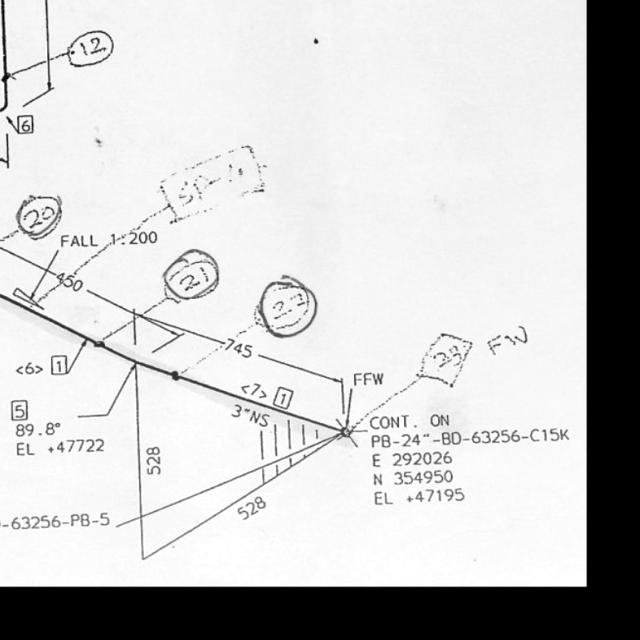Item number: (271, 383, 295, 411), (49, 352, 70, 377), (1, 125, 12, 172), (10, 397, 29, 422), (16, 111, 35, 135)
Measrement: (146, 440, 329, 564), (0, 241, 142, 327), (191, 382, 275, 430), (39, 2, 58, 92)
Pipeline: (2, 291, 339, 462), (1, 1, 13, 95)
Symbol: (334, 415, 358, 448)
Weld number: (252, 273, 320, 344), (160, 245, 223, 306), (15, 191, 66, 244), (64, 27, 116, 73)
other: (366, 409, 574, 508), (12, 415, 107, 458), (4, 509, 112, 531)
